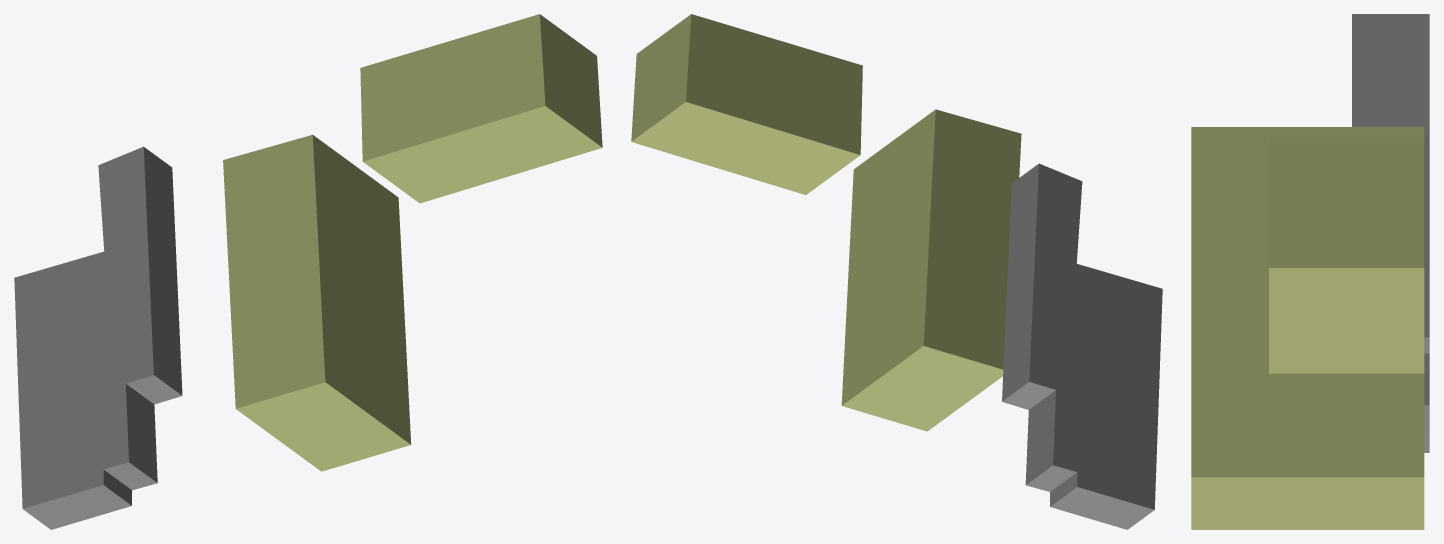
The picture shows the model from 3 angles, left to right: view 1: azimuth 30°, elevation 25°; view 2: azimuth 150°, elevation 25°; view 3: azimuth 270°, elevation 25°; orthographic projection. The views are drawn at different scales.
Visible parts, largest first — view 1: 0_3_0_1_2_2_2_2_0; view 2: 0_3_0_1_2_2_2_2_0; view 3: 0_3_0_1_2_2_2_2_0.
Part boxes in pixels (x1=…): 0_3_0_1_2_2_2_2_0: x1=14, y1=14, x2=602, y2=529; 0_3_0_1_2_2_2_2_0: x1=631, y1=14, x2=1162, y2=529; 0_3_0_1_2_2_2_2_0: x1=1191, y1=14, x2=1429, y2=529.
Bounding box in the file's own units: 32.04 × 21.45 × 9.2.
